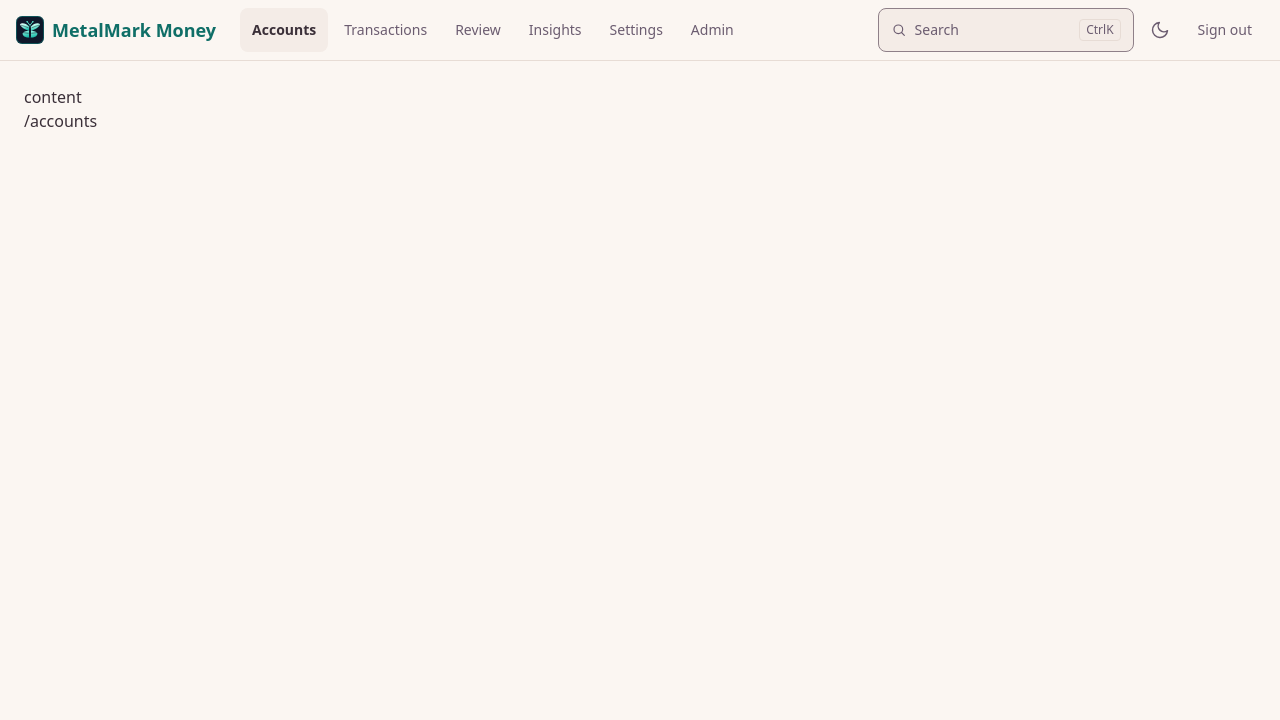
Test case: <AppShell /> command palette (issue #35) › lands on Admin for an administrator
Type keys "{Control>}k{/Control}"
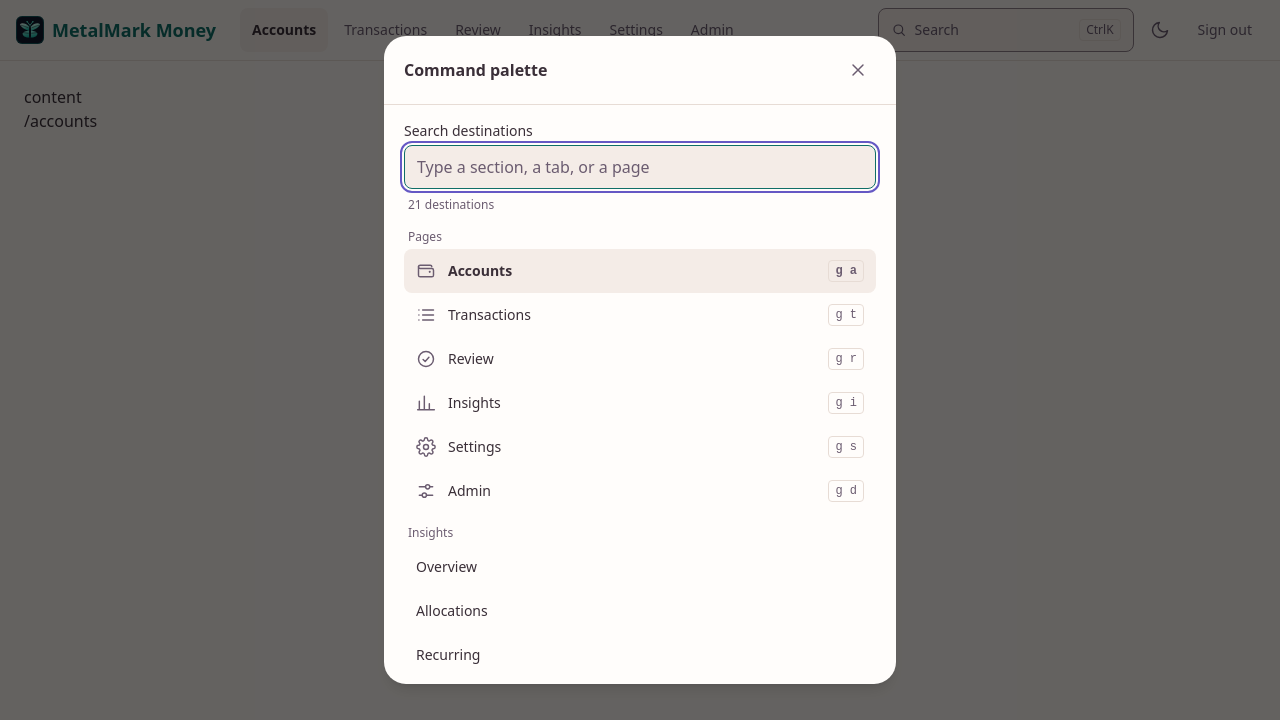
Type "admin" into the dropdown with test id "palette-input" at (640, 167), box [404, 145, 876, 189]
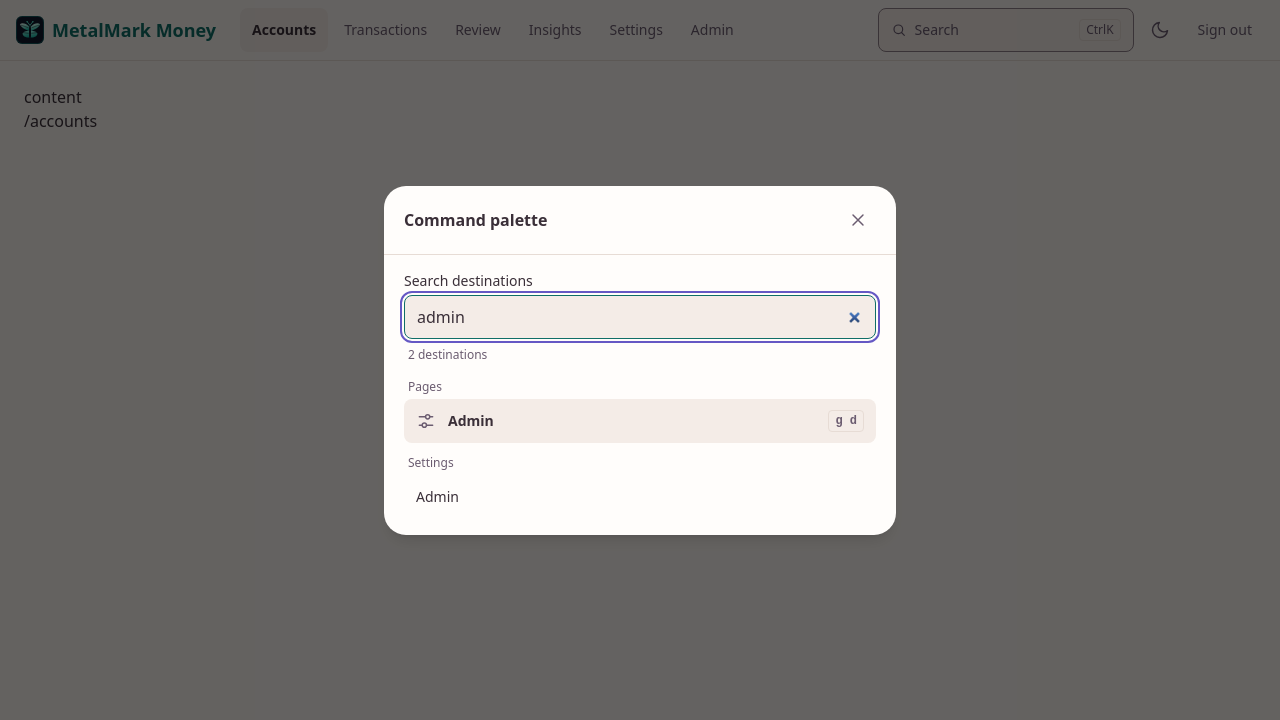
Check: the option with test id "palette-option-settings-admin" is shown, box [416, 486, 459, 506]
Press Enter
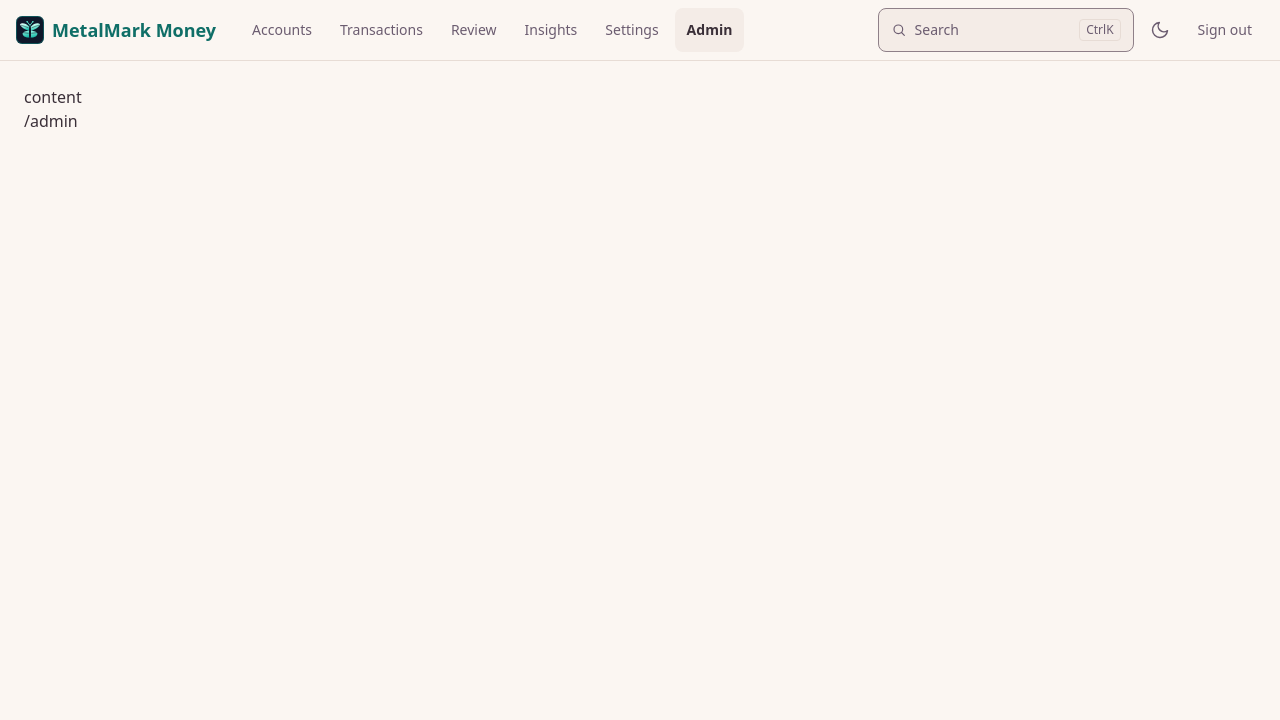
Check: the text with test id "where" reads "/admin", box [24, 110, 78, 132]
